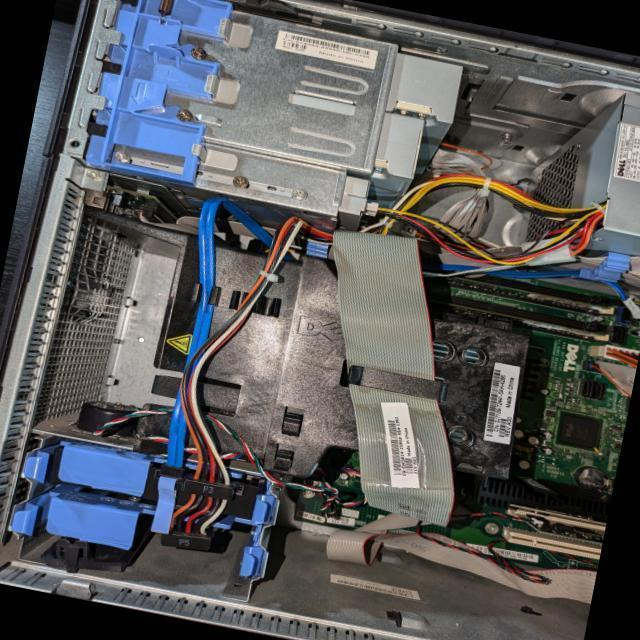DISK: (52, 441, 265, 522)
Mainboard: (291, 243, 640, 579)
PSU: (514, 77, 640, 287)
RAM: (428, 298, 607, 344), (428, 272, 610, 316)
